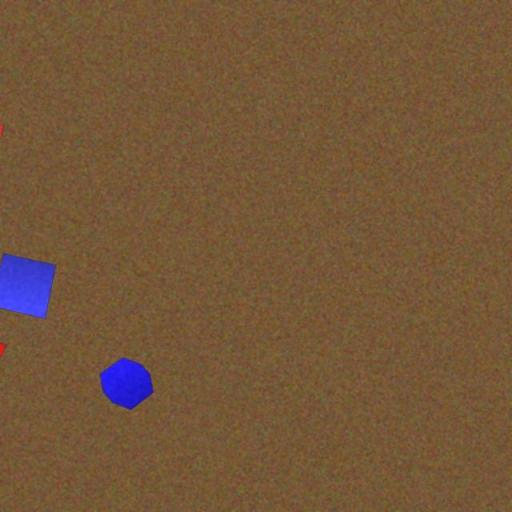BLUE_SQUARE: (0, 253, 57, 320)
